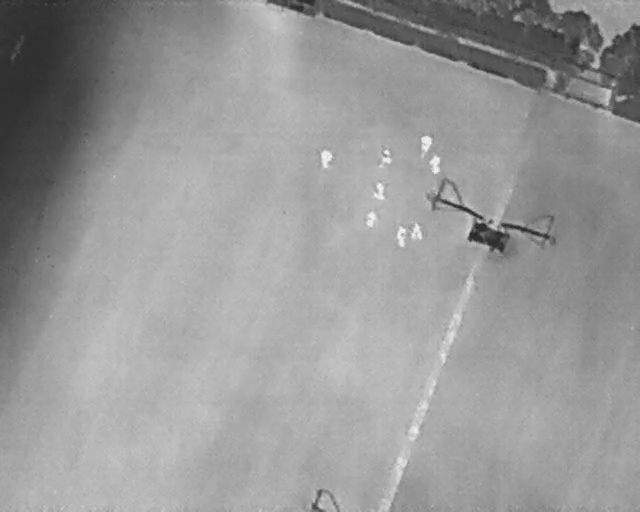Person: (416, 131, 434, 159), (377, 145, 394, 170), (363, 207, 380, 231), (371, 179, 386, 202), (428, 152, 442, 175), (395, 226, 407, 248), (409, 223, 424, 240), (320, 150, 332, 169)
